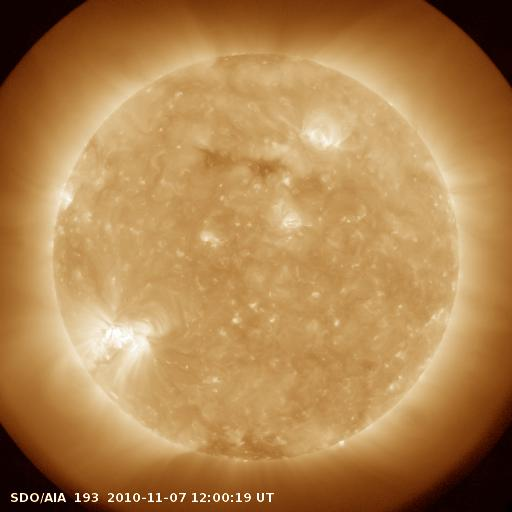coronal_hole: (191, 143, 288, 183), (187, 430, 292, 466)
